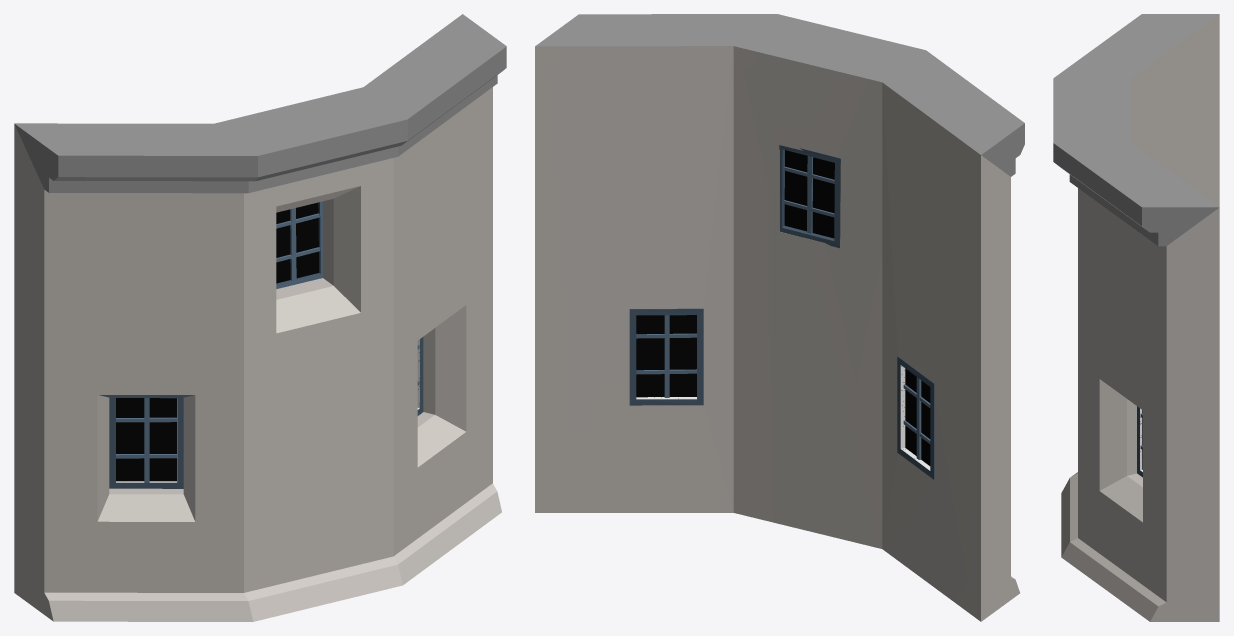
File: _BALKON_04_1.fbx
3 views of the same model, side by side, from view 1: azimuth 30°, elevation 25°; view 2: azimuth 150°, elevation 25°; view 3: azimuth 270°, elevation 25° (orthographic). The views are drawn at different scales.
Visible parts, largest first — view 1: BALKON_04_1; view 2: BALKON_04_1; view 3: BALKON_04_1.
Boxes of the visible parts, x1=… form: BALKON_04_1: x1=14, y1=14, x2=506, y2=621; BALKON_04_1: x1=535, y1=14, x2=1024, y2=621; BALKON_04_1: x1=1053, y1=14, x2=1219, y2=621.
Bounding box in the file's own units: 300 × 300 × 109.
